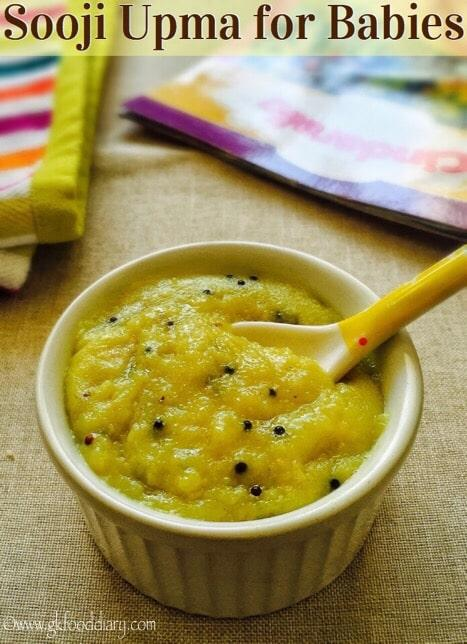upma: (56, 232, 422, 537)
